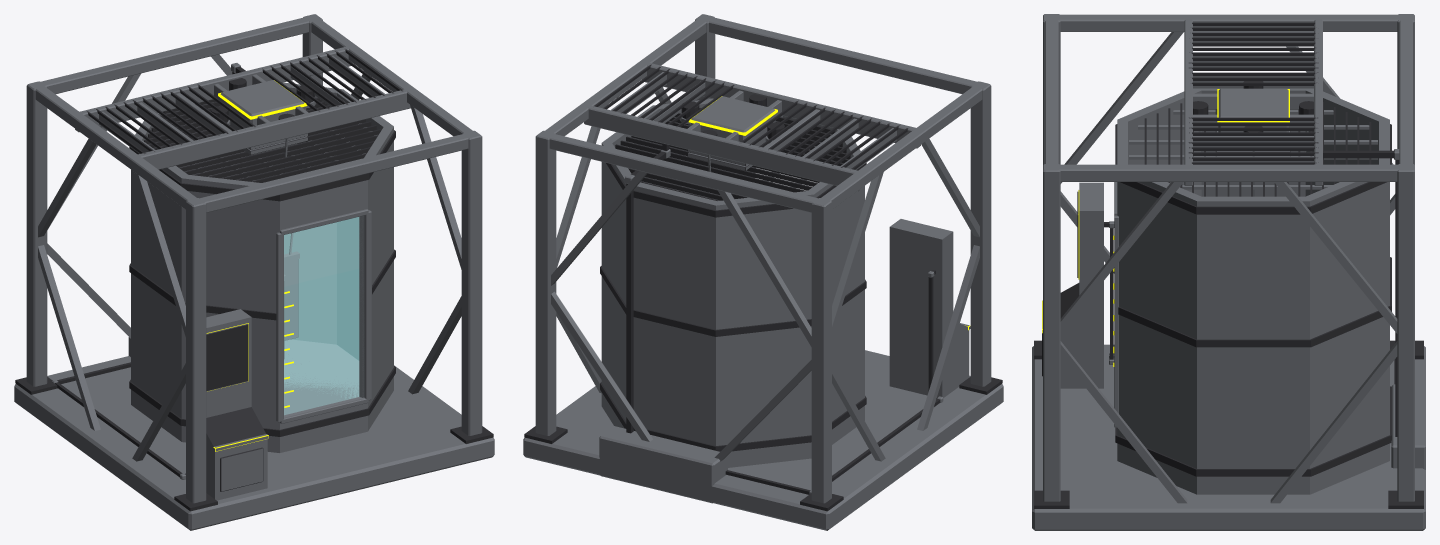
Rendered from ReactorS3.fbx.
The picture shows the model from 3 angles, left to right: view 1: azimuth 30°, elevation 25°; view 2: azimuth 150°, elevation 25°; view 3: azimuth 270°, elevation 25°; orthographic projection. The views are drawn at different scales.
Visible parts, largest first — view 1: Frame, Tank, Water, Blades, Wiring; view 2: Frame, Tank, Wiring; view 3: Frame, Tank, Wiring.
Boxes of the visible parts, left/top/right/bottom form: Frame: left=14, top=14, right=494, bottom=530; Tank: left=129, top=82, right=395, bottom=452; Water: left=284, top=217, right=358, bottom=414; Blades: left=284, top=251, right=299, bottom=359; Wiring: left=52, top=63, right=245, bottom=479; Frame: left=523, top=14, right=1003, bottom=530; Tank: left=600, top=98, right=866, bottom=467; Wiring: left=625, top=143, right=943, bottom=494; Frame: left=1032, top=14, right=1425, bottom=530; Tank: left=1113, top=88, right=1391, bottom=494; Wiring: left=1104, top=149, right=1399, bottom=436.
Size of the model in its own units: 4 by 4 by 4.
